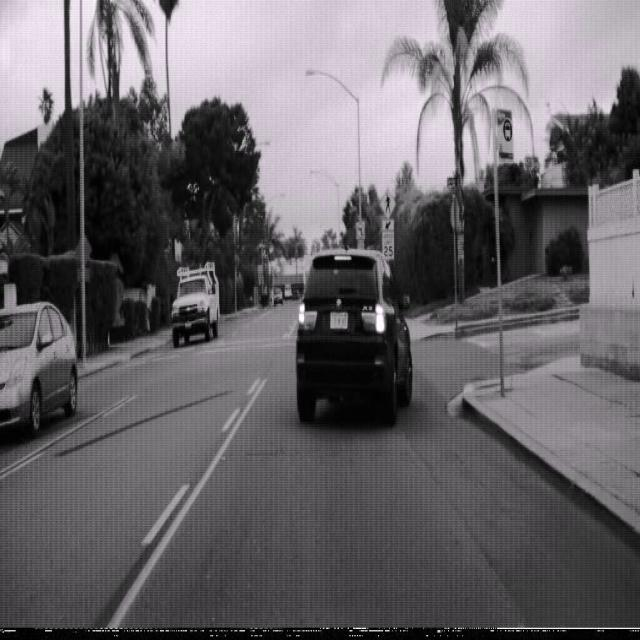pedestrianCrossing: (379, 187, 396, 220)
speedLimit25: (382, 230, 394, 258)
